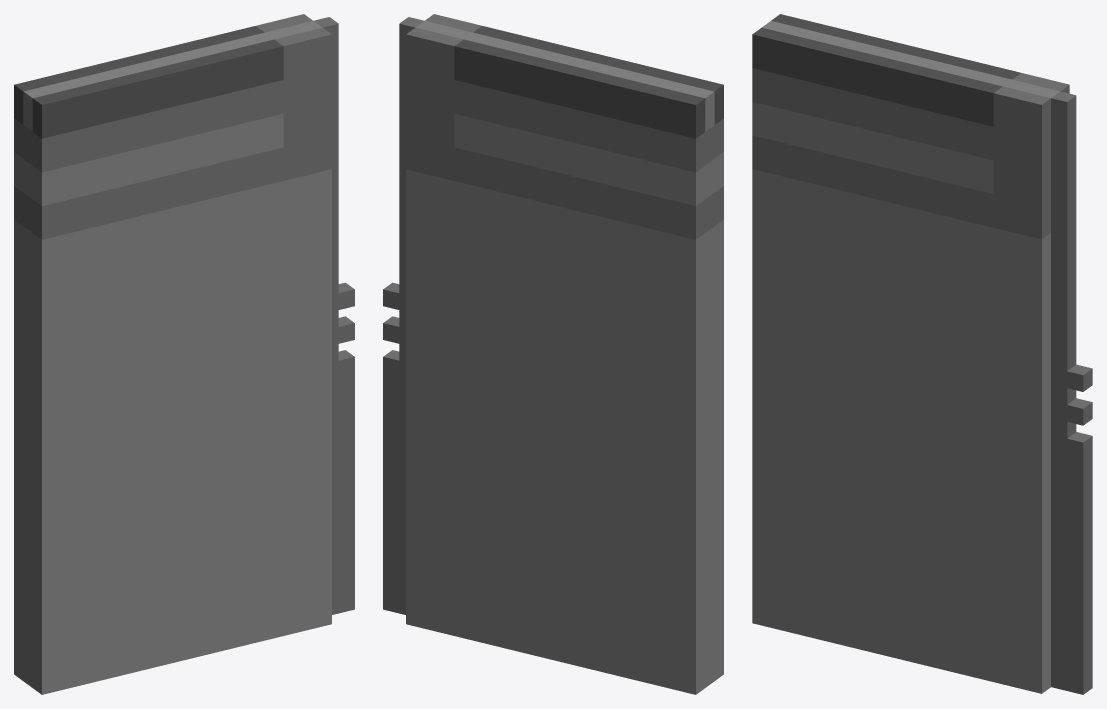
File: Door Left.obj
3 renders of one model, left to right at view 1: azimuth 30°, elevation 25°; view 2: azimuth 150°, elevation 25°; view 3: azimuth 330°, elevation 25°, orthographic.
Size of the model in its own units: 20 by 35 by 3.
1 material, 1 textured.
